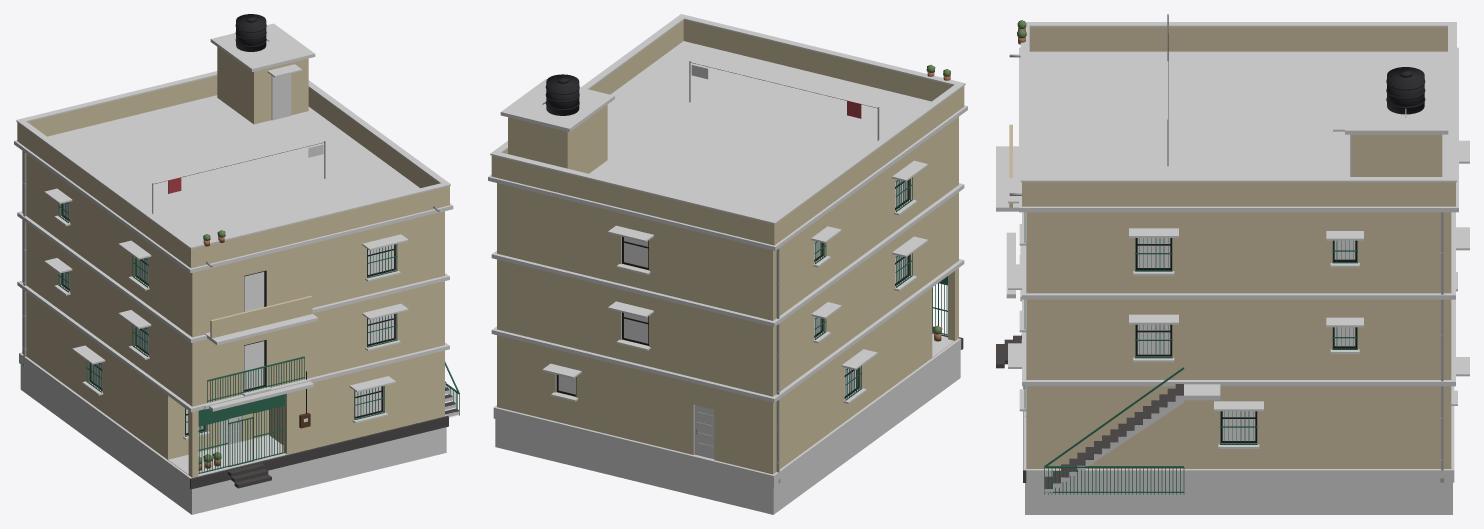
The model's file is tn_house_12x14_3.glb.
The picture shows the model from 3 angles, left to right: view 1: azimuth 30°, elevation 25°; view 2: azimuth 150°, elevation 25°; view 3: azimuth 270°, elevation 25°; orthographic projection. The views are drawn at different scales.
Visible parts, largest first — view 1: tn_house_12x14_3; view 2: tn_house_12x14_3; view 3: tn_house_12x14_3.
Boxes of the visible parts, box(x1,y1,x2,y2) form: tn_house_12x14_3: box(14, 14, 459, 514); tn_house_12x14_3: box(488, 14, 967, 514); tn_house_12x14_3: box(996, 14, 1469, 514).
Bounding box in the file's own units: 13.67 × 15.15 × 15.61.
